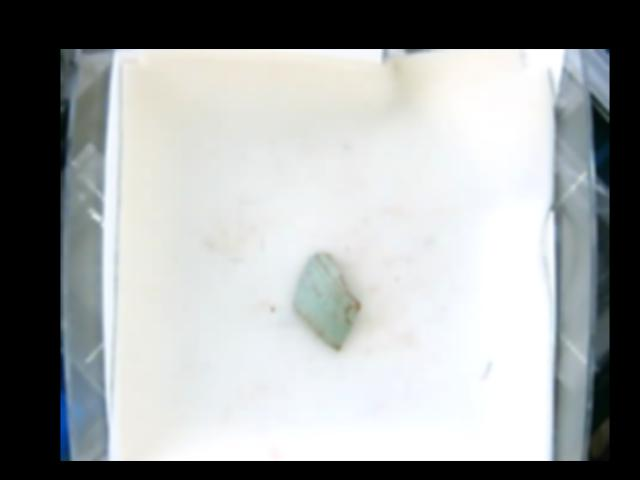China: (291, 255, 359, 349)
